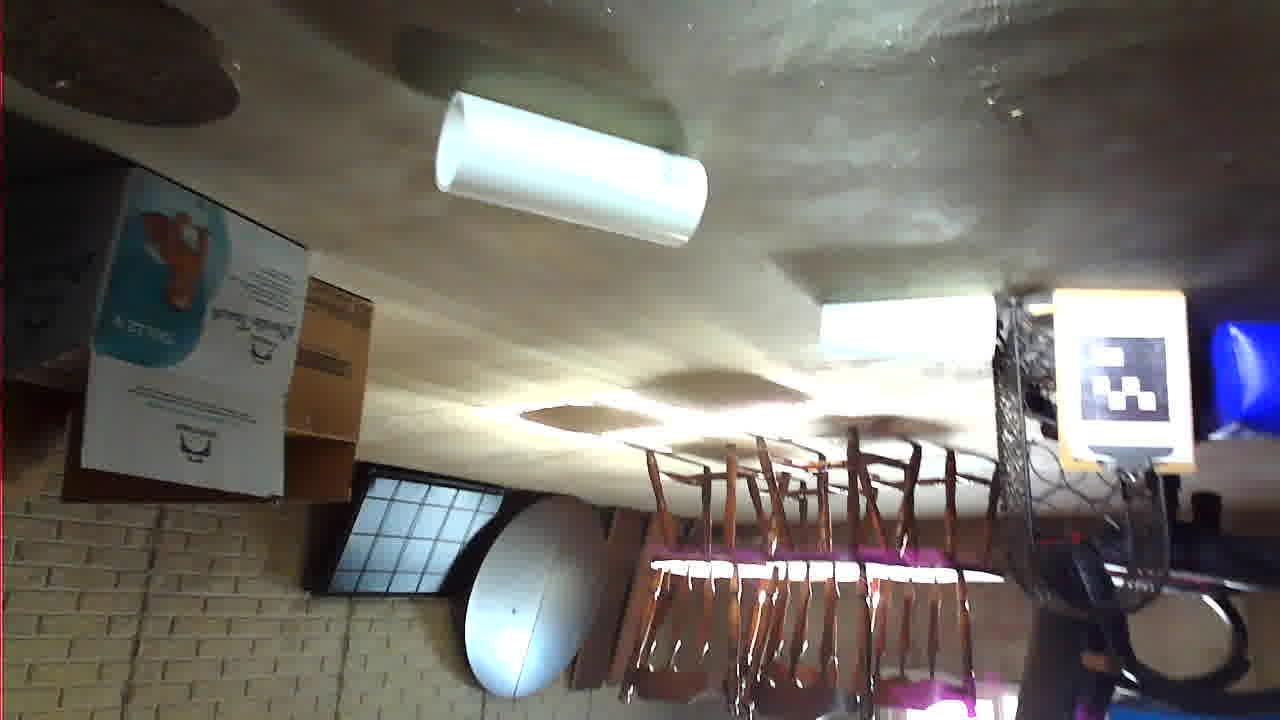coral: (572, 472, 845, 630), (284, 359, 460, 425)
